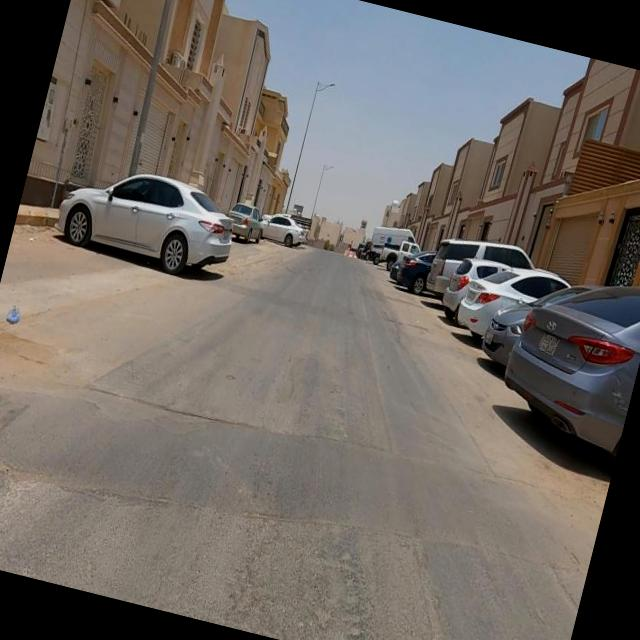debris: (0, 262, 59, 373)
